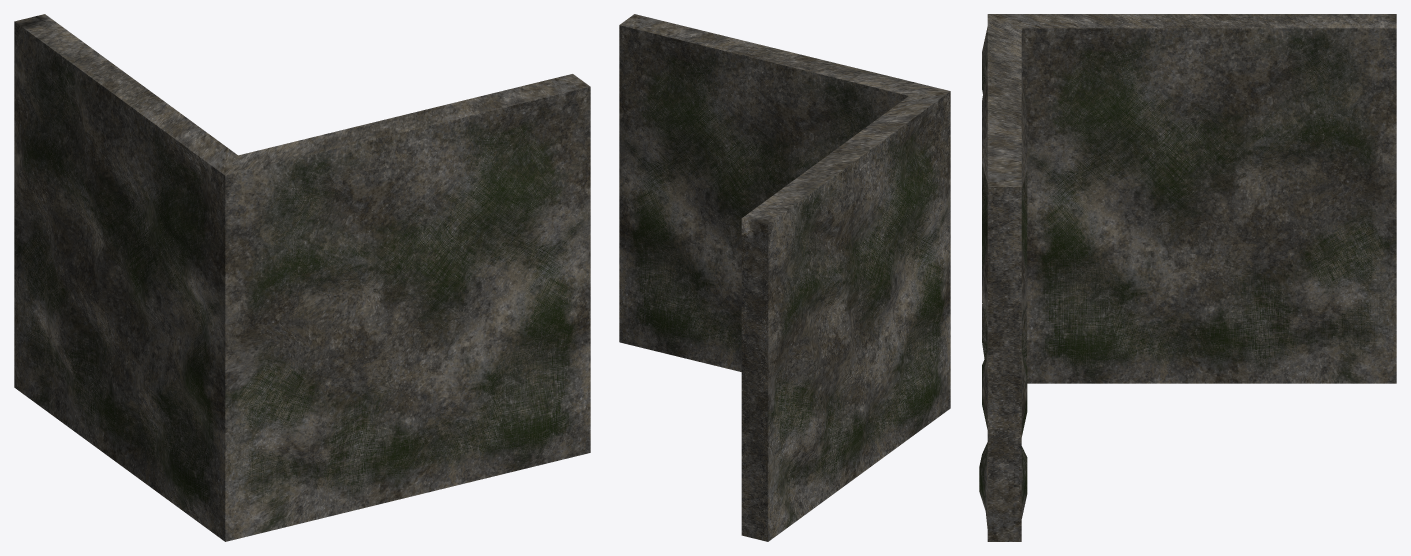
Rendered from underground_floor_standard_corner.fbx.
3 renders of one model, left to right at view 1: azimuth 30°, elevation 25°; view 2: azimuth 150°, elevation 25°; view 3: azimuth 270°, elevation 25°, orthographic. The views are drawn at different scales.
Parts seen in each view (by area): view 1: underground_floor_standard_corner; view 2: underground_floor_standard_corner; view 3: underground_floor_standard_corner.
Part boxes in pixels (x1,y1,x2,y2): underground_floor_standard_corner: (14,14,590,541); underground_floor_standard_corner: (619,14,950,541); underground_floor_standard_corner: (979,14,1396,541).
Size of the model in its own units: 351 by 330 by 351.
1 material, 1 textured.
